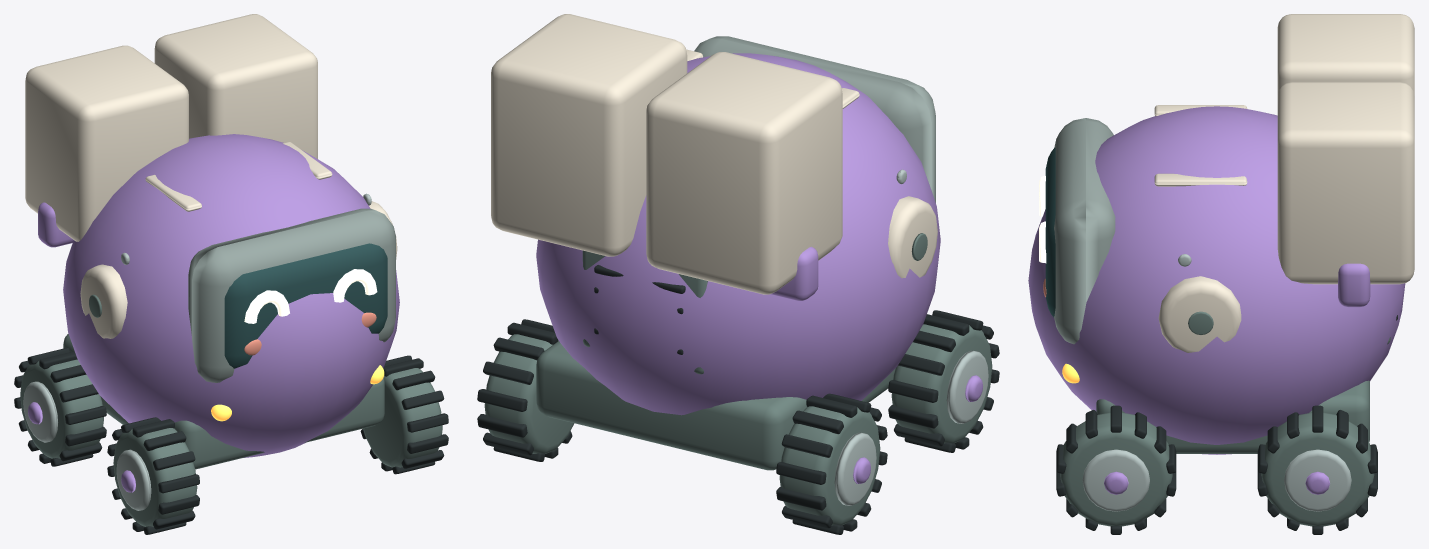
File: trundle-bot.glb
3 renders of one model, left to right at view 1: azimuth 30°, elevation 25°; view 2: azimuth 150°, elevation 25°; view 3: azimuth 270°, elevation 25°, orthographic. The views are drawn at different scales.
Visible parts, largest first — view 1: robot_lavender_paint, robot_warm_cream, robot_warm_steel, robot_brushed_bezel, robot_graphite_rubber, robot_screen, robot_machined_alloy, robot_face_glow; view 2: robot_warm_cream, robot_lavender_paint, robot_warm_steel, robot_graphite_rubber, robot_brushed_bezel, robot_machined_alloy; view 3: robot_lavender_paint, robot_warm_cream, robot_warm_steel, robot_brushed_bezel, robot_graphite_rubber, robot_machined_alloy, robot_screen, robot_face_glow.
Part boxes in pixels (left/top/right/bottom): robot_lavender_paint: left=28, top=134, right=399, bottom=492; robot_warm_cream: left=25, top=14, right=397, bottom=338; robot_warm_steel: left=20, top=294, right=442, bottom=526; robot_brushed_bezel: left=188, top=208, right=395, bottom=382; robot_graphite_rubber: left=14, top=348, right=448, bottom=534; robot_screen: left=224, top=243, right=387, bottom=368; robot_machined_alloy: left=23, top=193, right=371, bottom=510; robot_face_glow: left=244, top=269, right=377, bottom=323; robot_warm_cream: left=491, top=14, right=937, bottom=294; robot_lavender_paint: left=536, top=53, right=982, bottom=483; robot_warm_steel: left=484, top=233, right=992, bottom=525; robot_graphite_rubber: left=477, top=265, right=999, bottom=534; robot_brushed_bezel: left=694, top=36, right=935, bottom=202; robot_machined_alloy: left=834, top=169, right=988, bottom=505; robot_lavender_paint: left=1028, top=106, right=1405, bottom=494; robot_warm_cream: left=1154, top=14, right=1414, bottom=352; robot_warm_steel: left=1060, top=311, right=1390, bottom=526; robot_brushed_bezel: left=1054, top=118, right=1115, bottom=344; robot_graphite_rubber: left=1056, top=315, right=1397, bottom=534; robot_machined_alloy: left=1082, top=254, right=1351, bottom=511; robot_screen: left=1045, top=147, right=1055, bottom=317; robot_face_glow: left=1039, top=175, right=1046, bottom=263.
Bounding box in the file's own units: 0.95 × 1.06 × 0.958.
